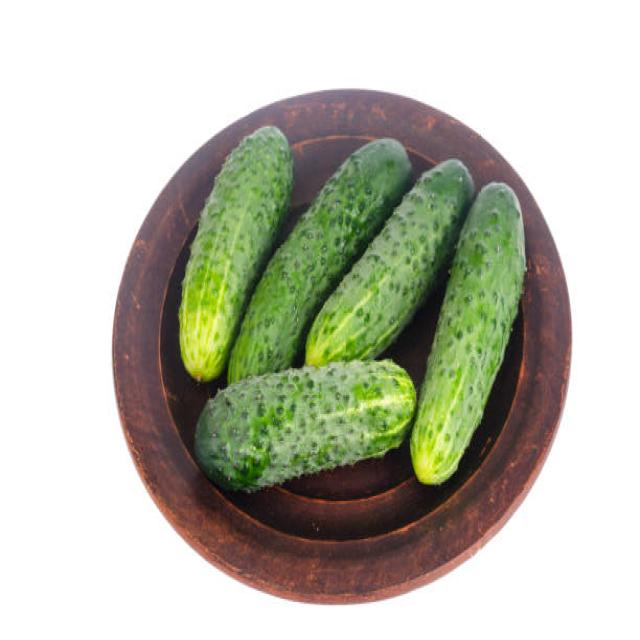cucumber: (228, 137, 474, 383), (411, 181, 526, 484), (192, 358, 418, 495), (180, 124, 291, 379)
